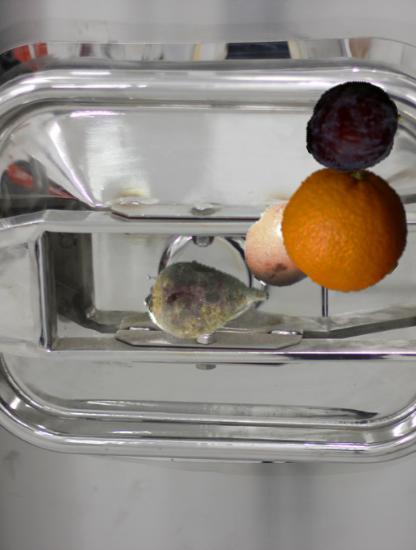Beetroot: (141, 234, 273, 366)
Granadilla: (238, 185, 345, 292)
Orange: (281, 163, 411, 293)
Plum: (302, 78, 401, 177)
